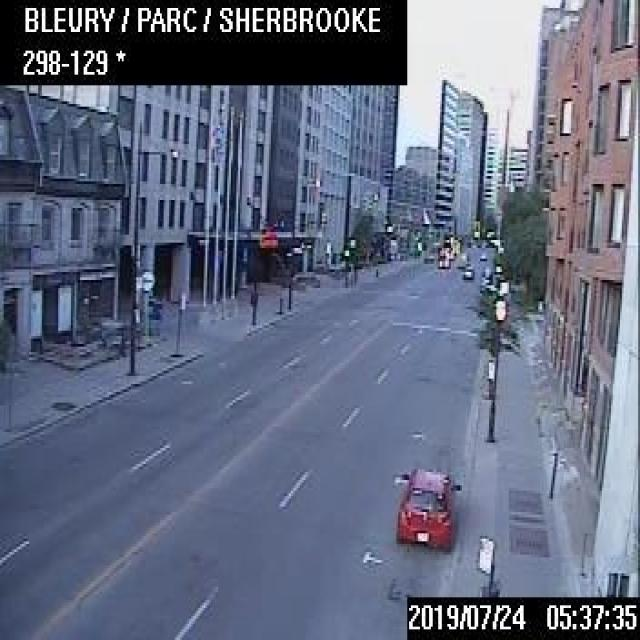vehicle: (391, 461, 458, 548), (437, 246, 448, 266), (460, 263, 472, 277), (478, 251, 486, 259)
